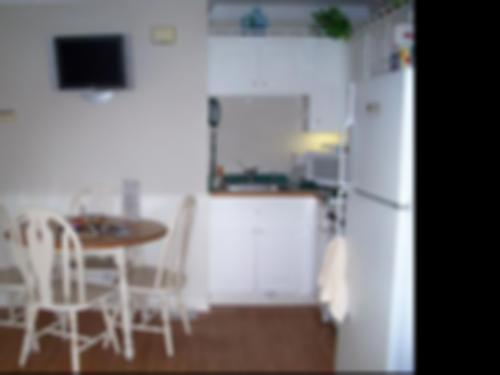Lavaplatos: (222, 159, 295, 195)
